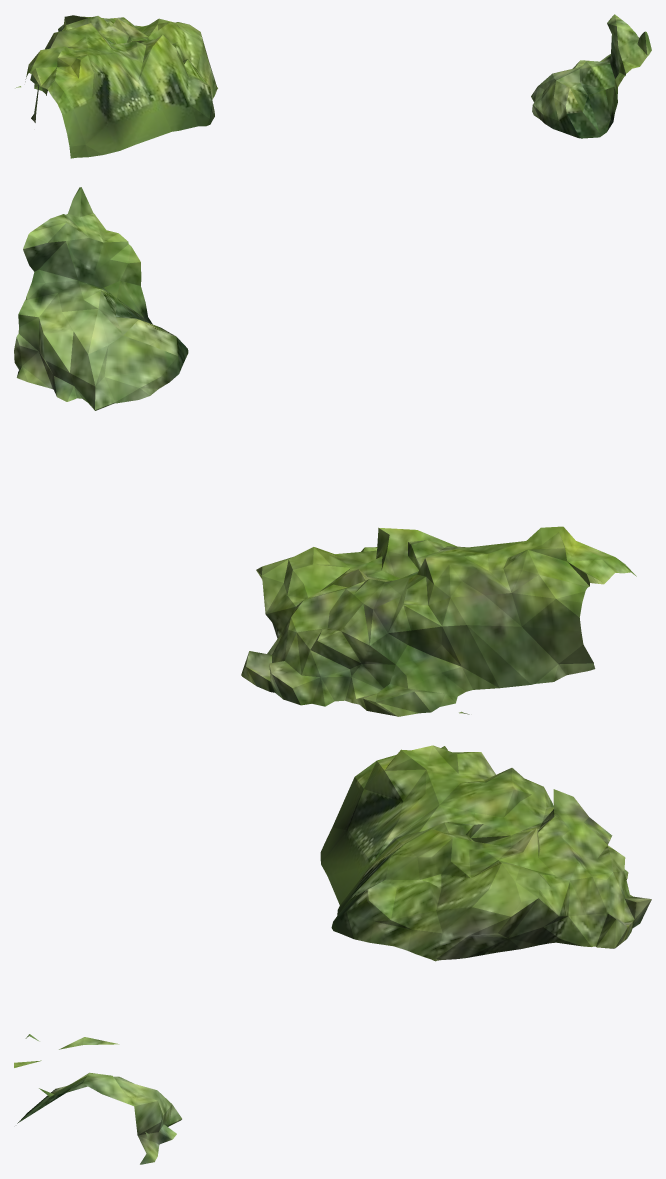
3 views of the same model, one above another, from view 1: azimuth 30°, elevation 25°; view 2: azimuth 150°, elevation 25°; view 3: azimuth 270°, elevation 25° (orthographic). The views are drawn at different scales.
Bounding box in the file's own units: 26.11 × 4.75 × 21.2.
1 material, 1 textured.
